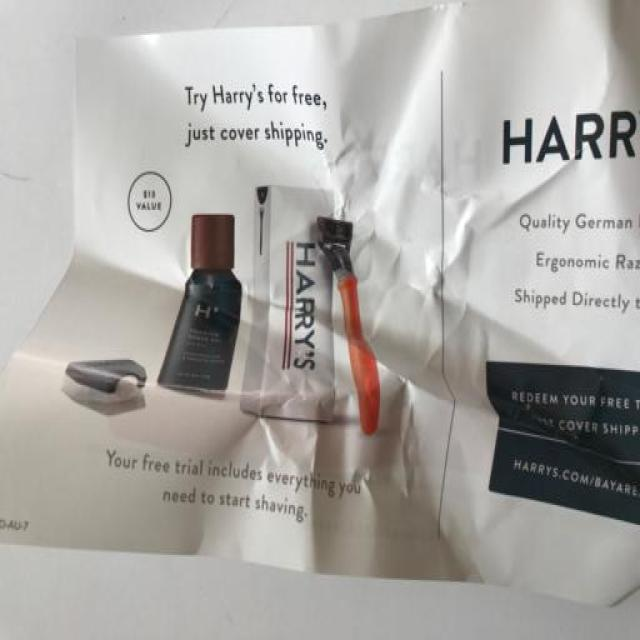paper: (0, 0, 639, 622)
